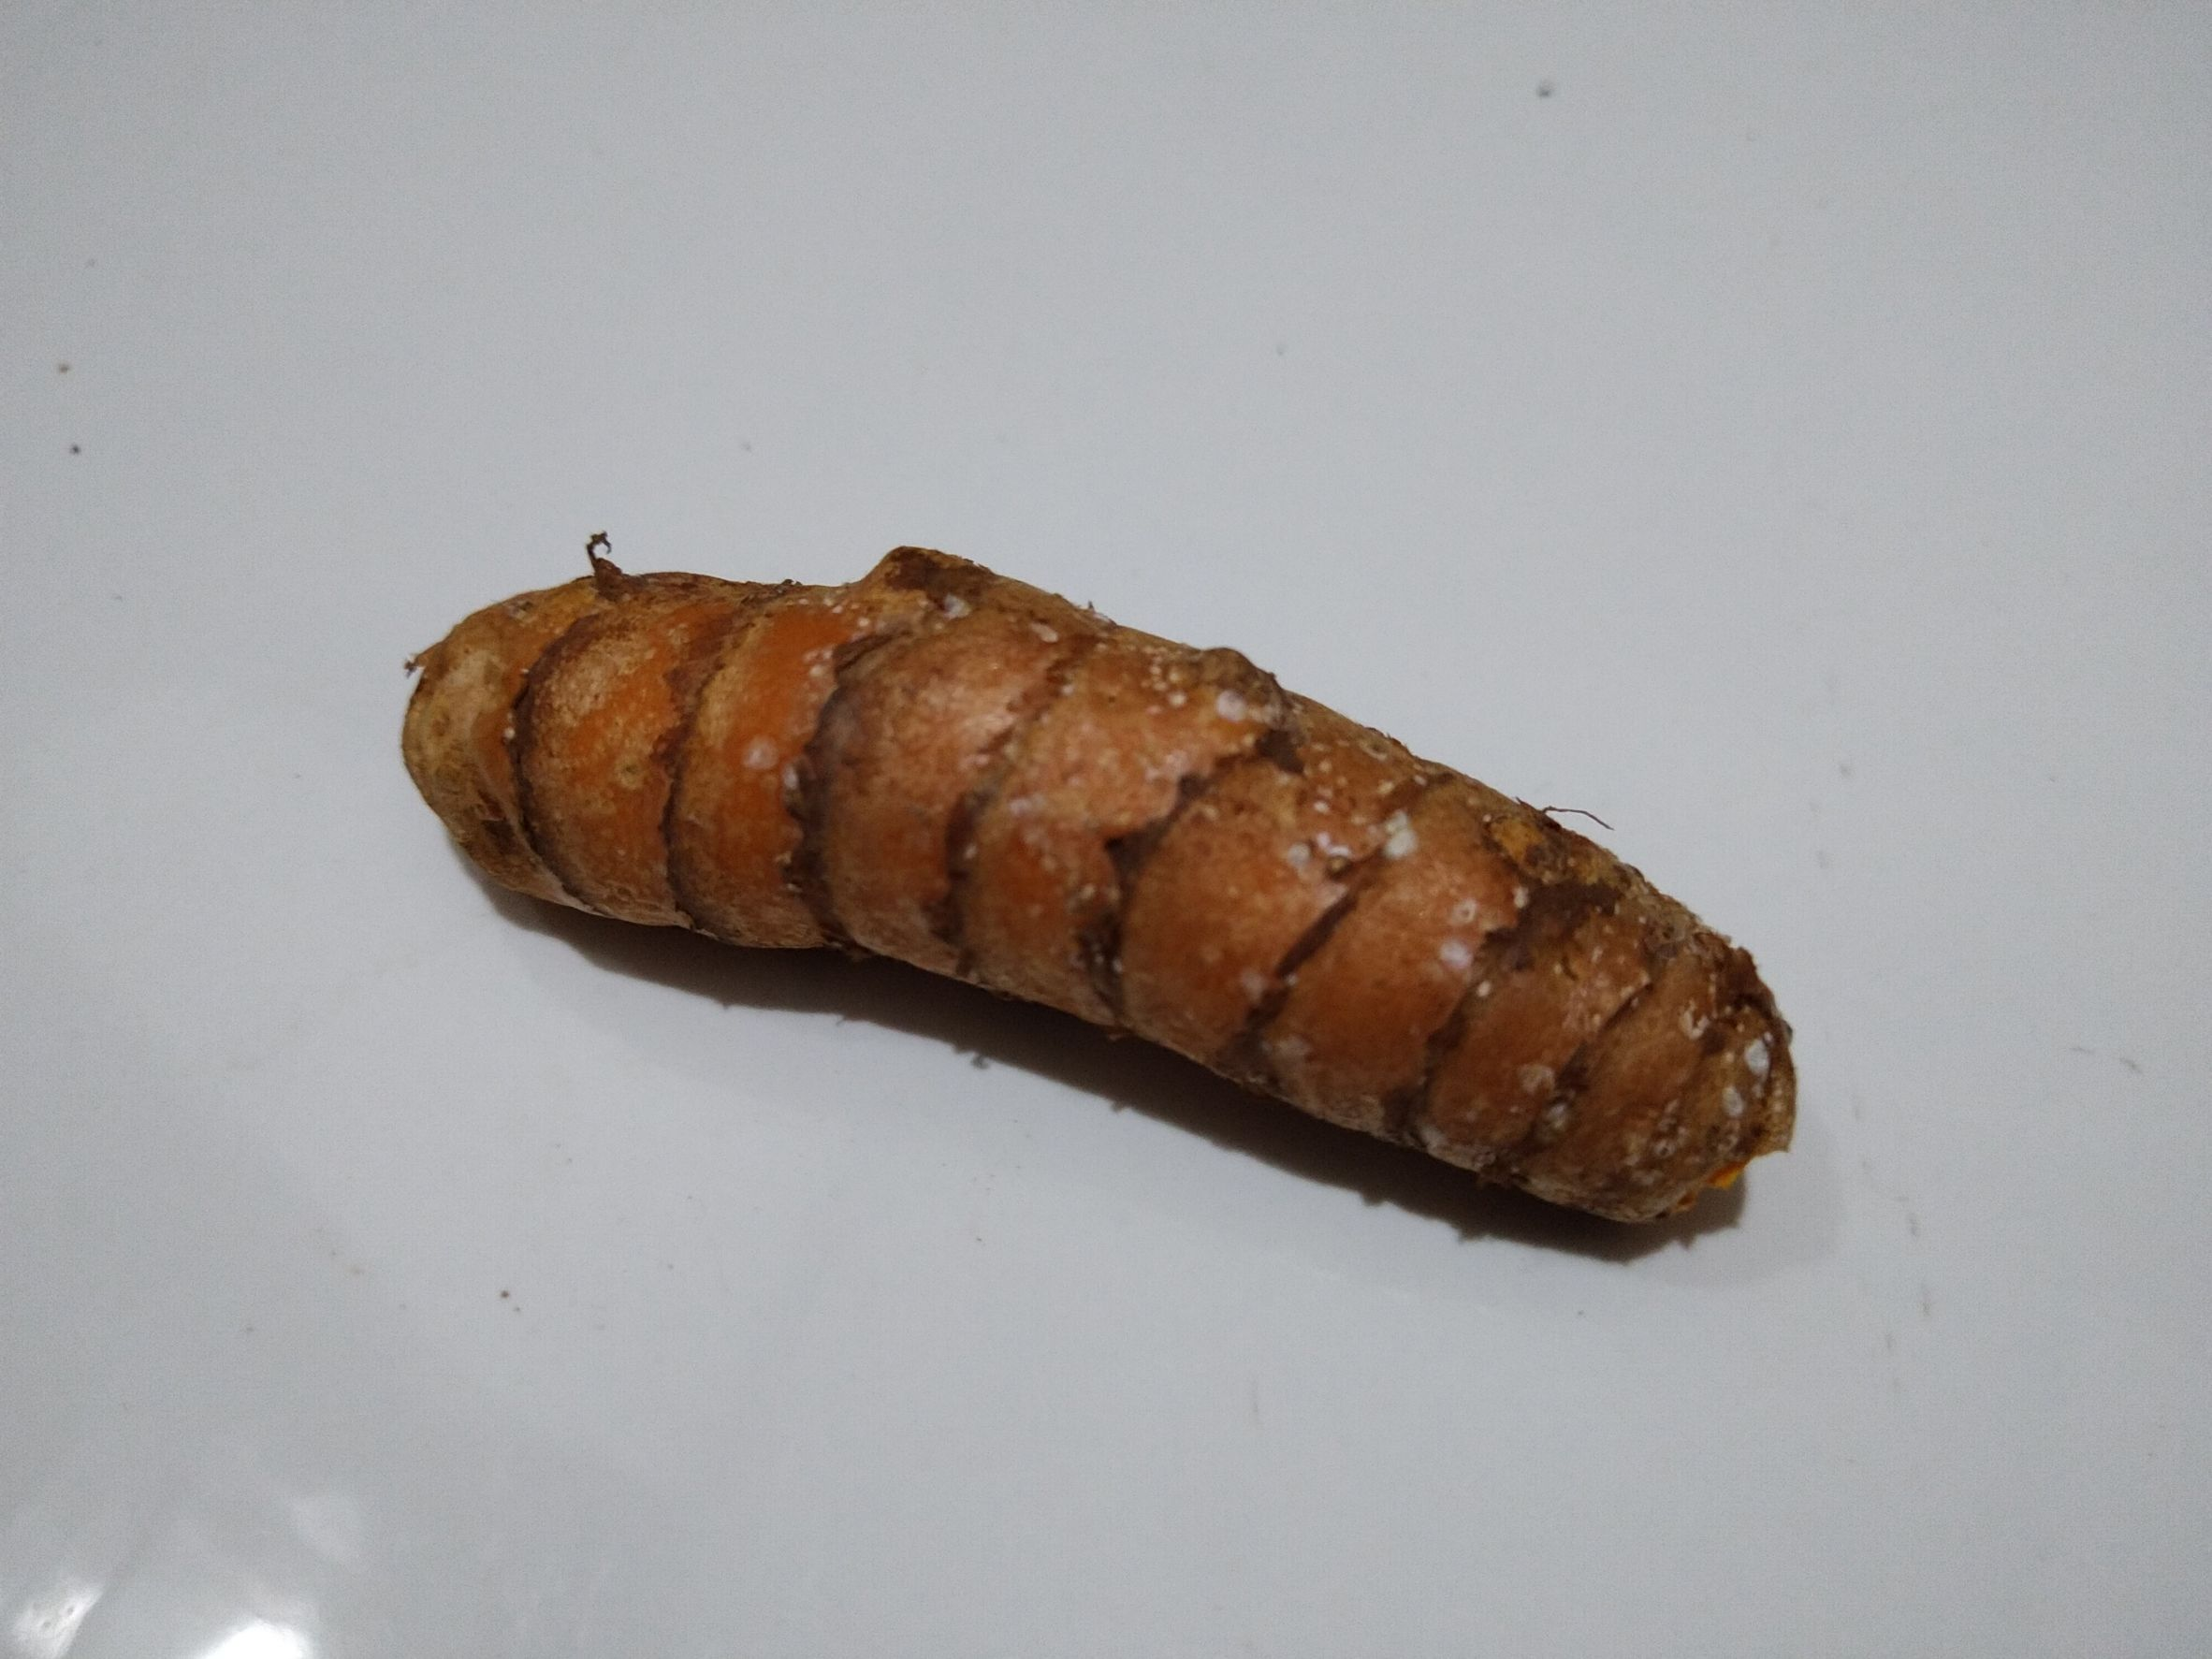Kunyit: (411, 556, 1797, 1256)
